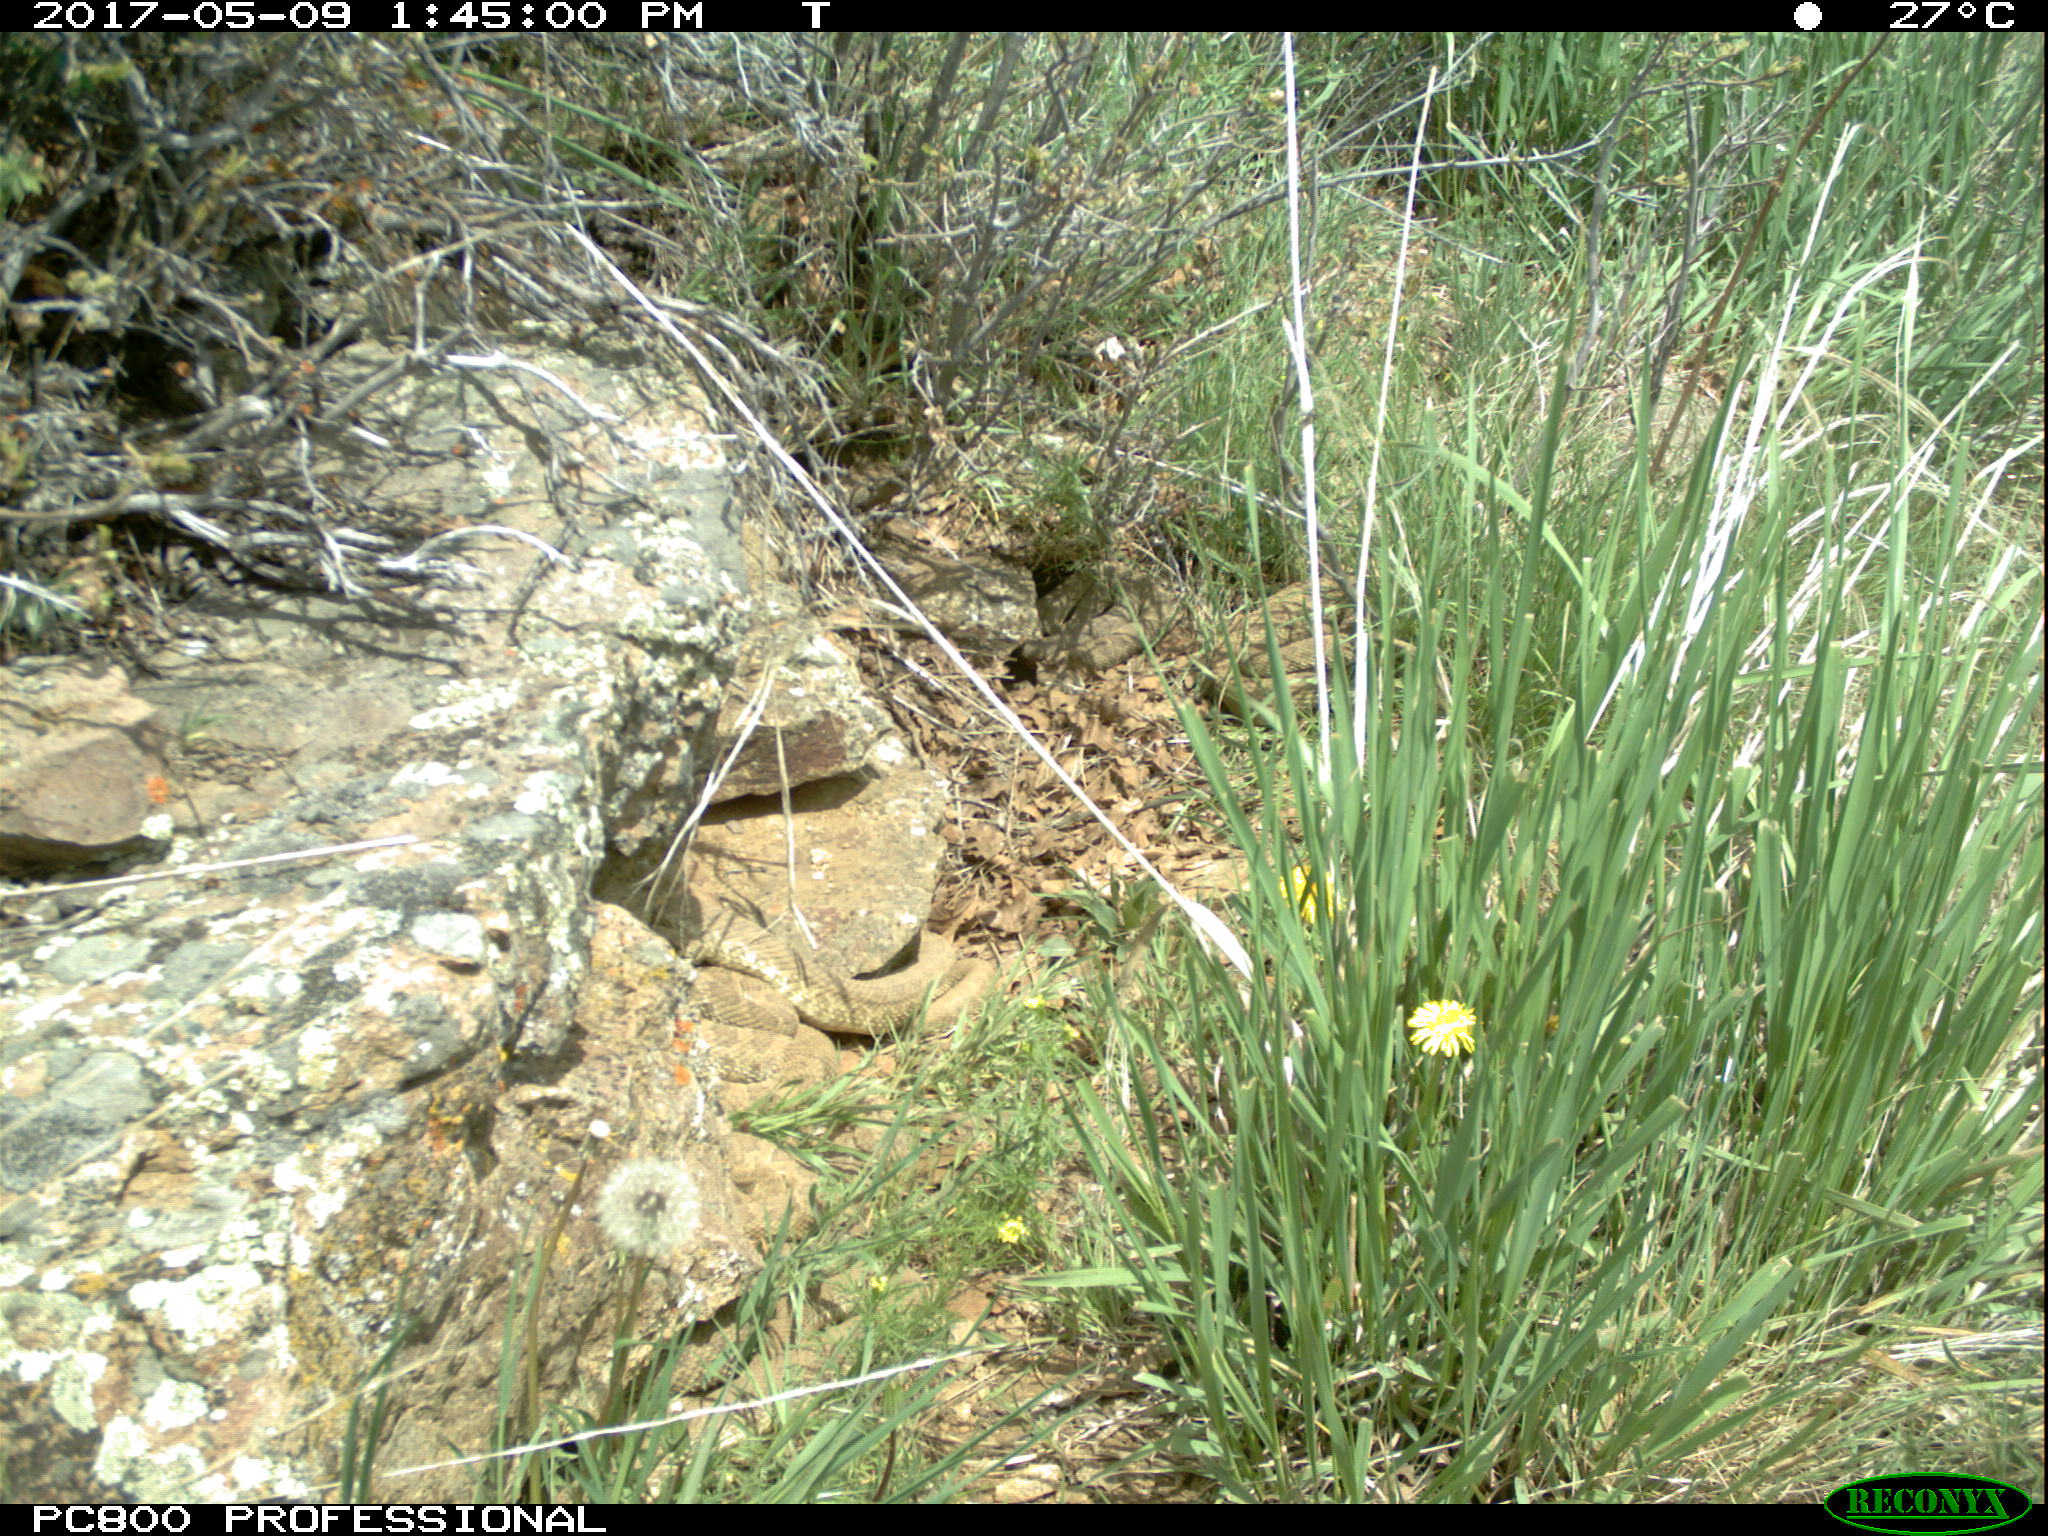snake: (677, 900, 1003, 1033), (650, 1267, 903, 1410), (689, 976, 842, 1113), (1234, 574, 1366, 715), (1032, 570, 1185, 670), (721, 1141, 822, 1238)
